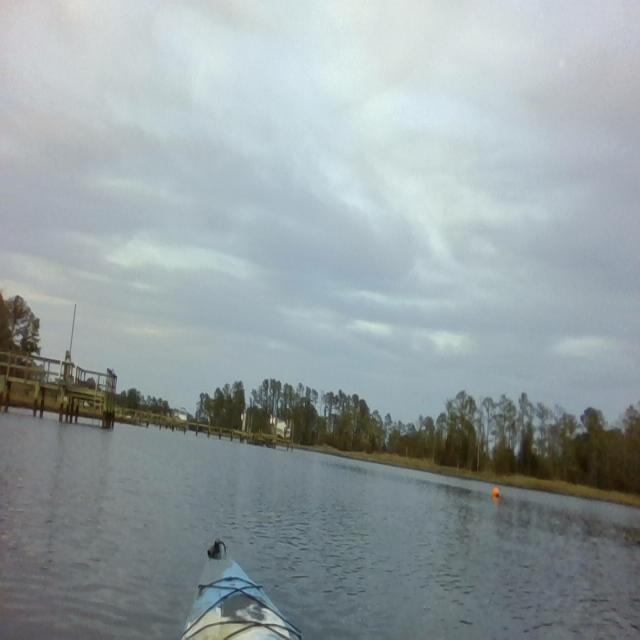Buoy: (490, 478, 502, 503)
